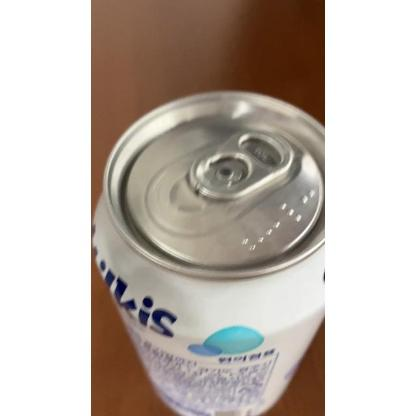Can: (91, 86, 325, 416)
